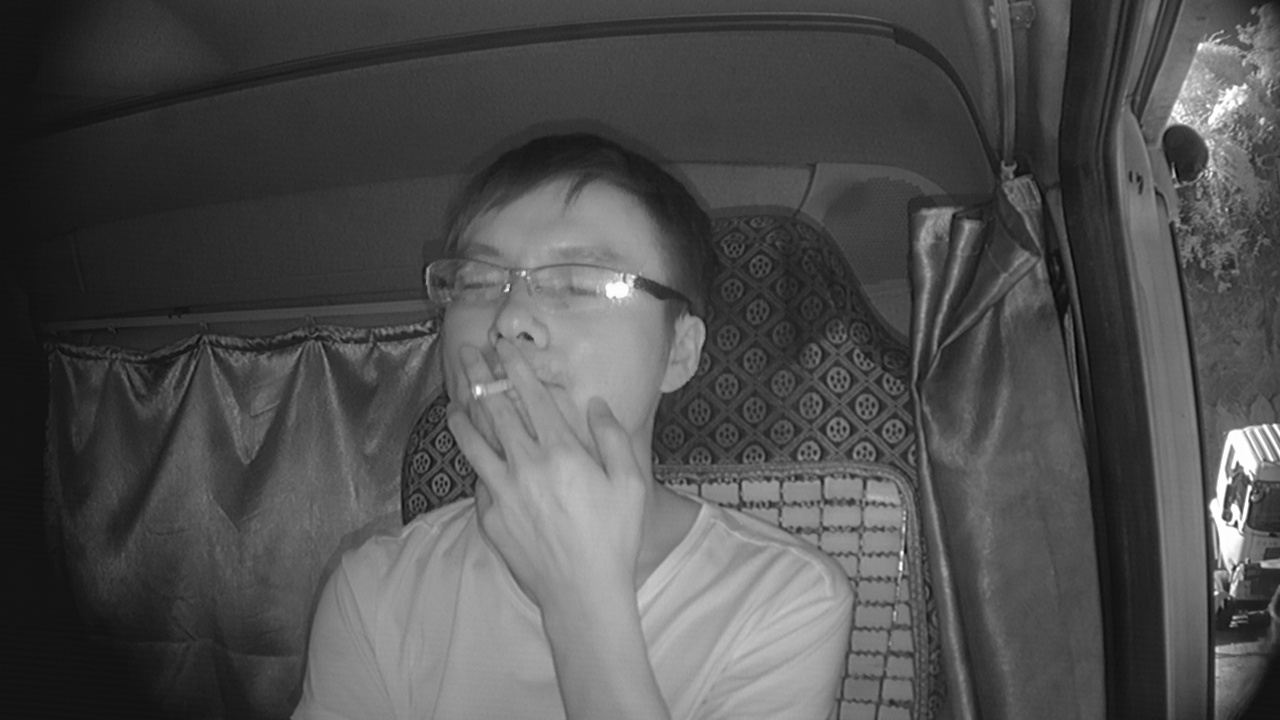hand: (444, 348, 633, 573)
